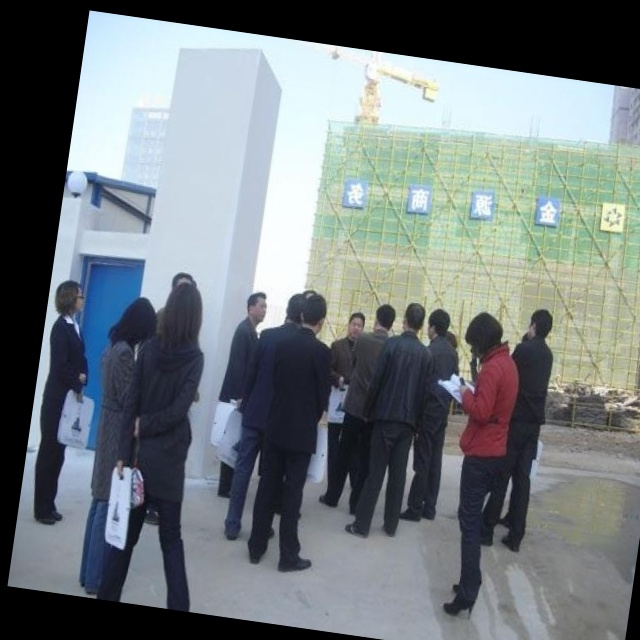Sin_Casco_Mascarrilla: (462, 309, 505, 360)
Sin_Chaleco: (260, 325, 336, 448), (367, 331, 436, 432)
